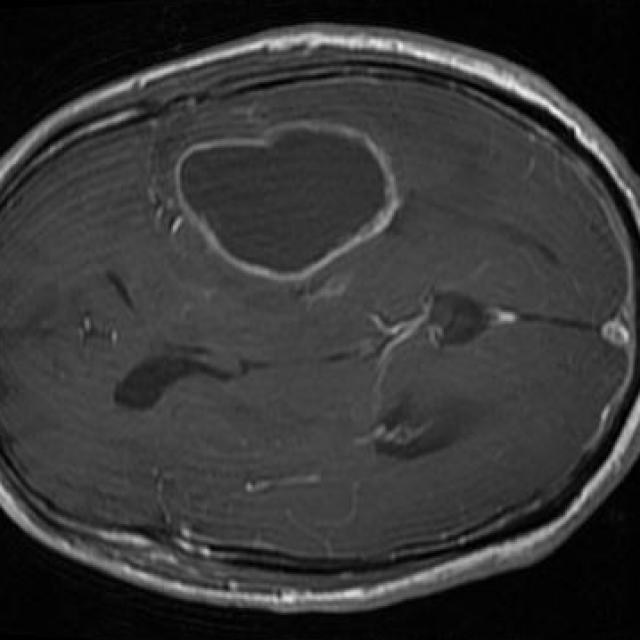glioma: (175, 121, 399, 283)
